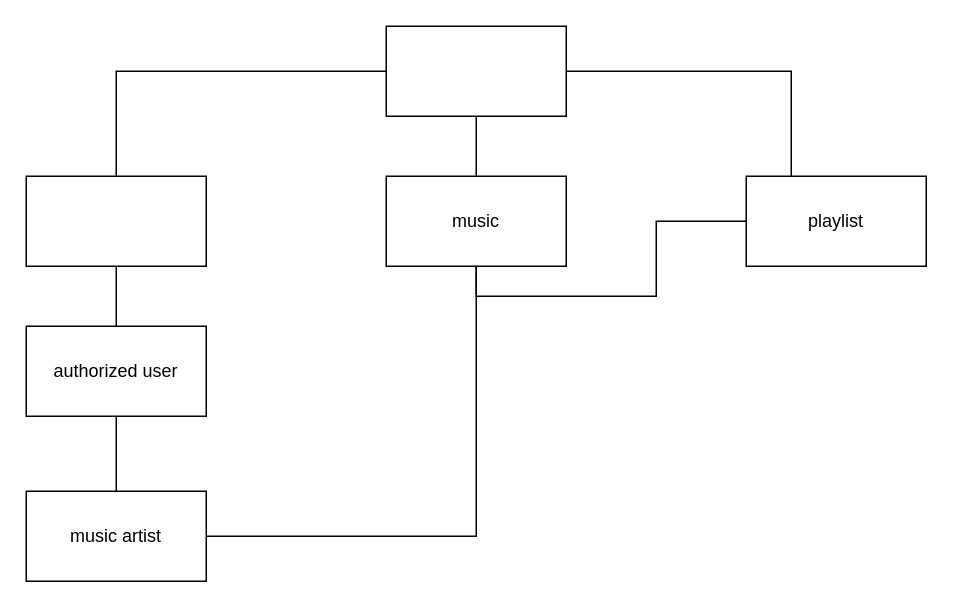
Some shapes in this 953 by 608 pixel diagram are drawn without their labels. The shapes that lost their labels are listed below. From the top down, each one's centre as x and y in pixels, then its label:
At (475,70): "Mobile App".
At (115,220): "not authorized user".
